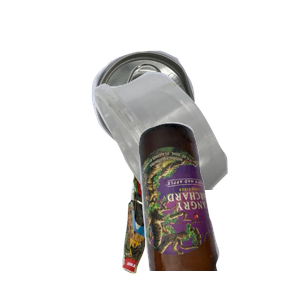glass: (136, 120, 300, 300)
metal: (89, 48, 276, 192)
plastic: (91, 69, 300, 249)
trash: (120, 131, 290, 300)
